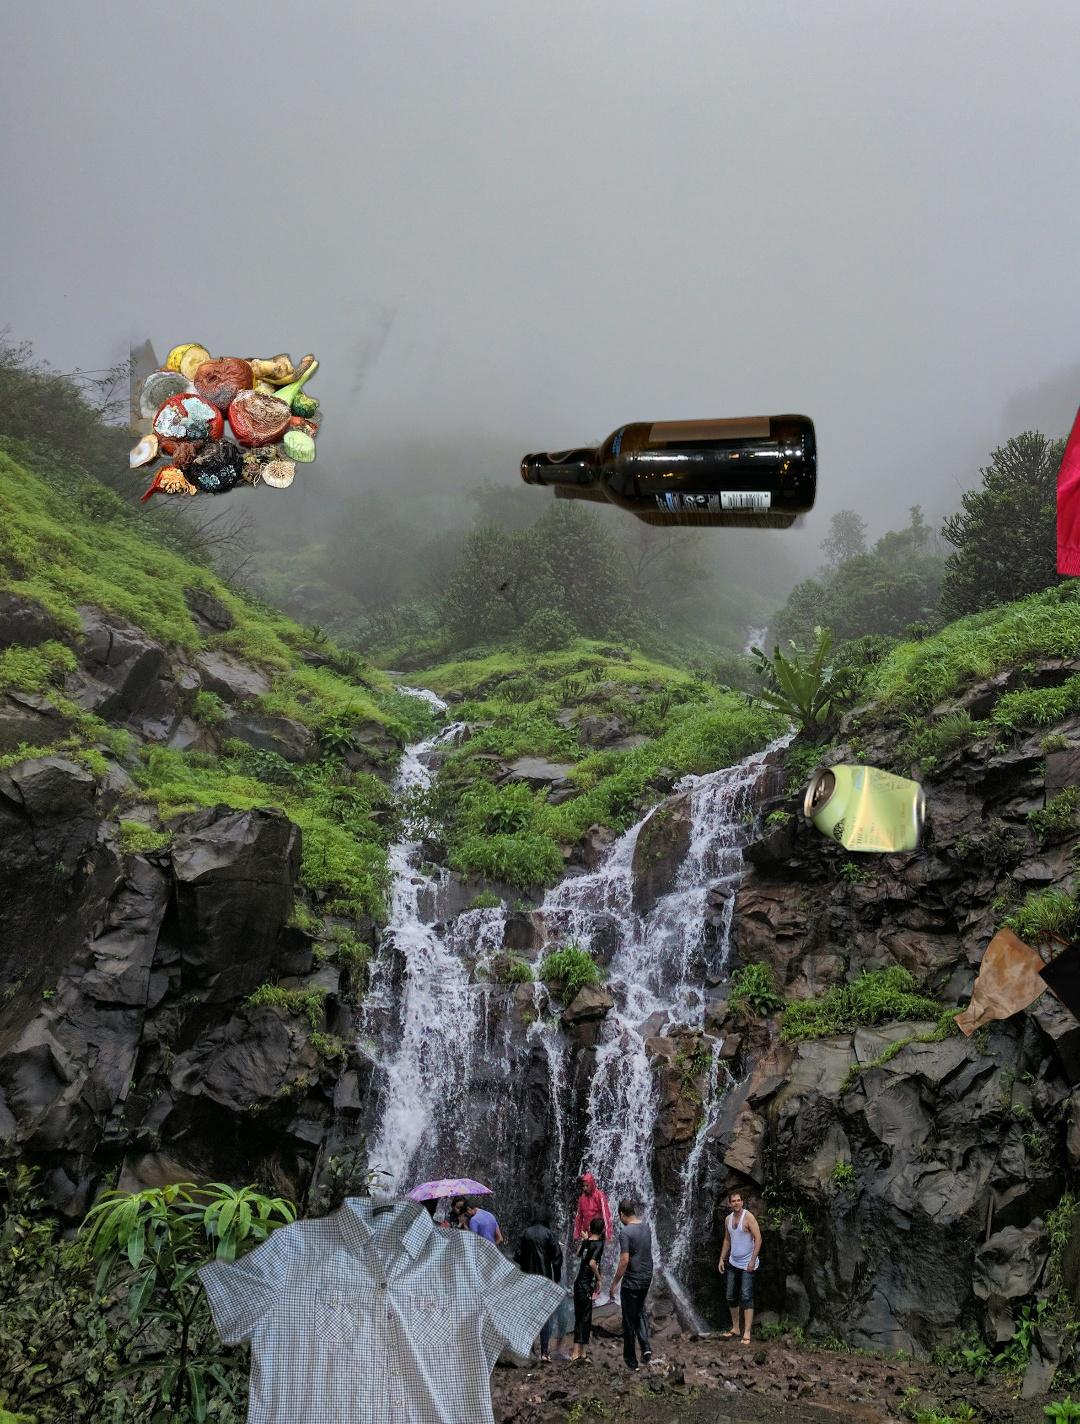biological: (130, 325, 326, 506)
clothes: (192, 1190, 572, 1424), (1057, 169, 1080, 765)
glass: (515, 411, 822, 533)
metal-cans: (798, 757, 930, 860)
paper-bag: (950, 922, 1080, 1038)
penholder: (1068, 425, 1080, 886)
trashbox-cardboard: (64, 295, 576, 679)
